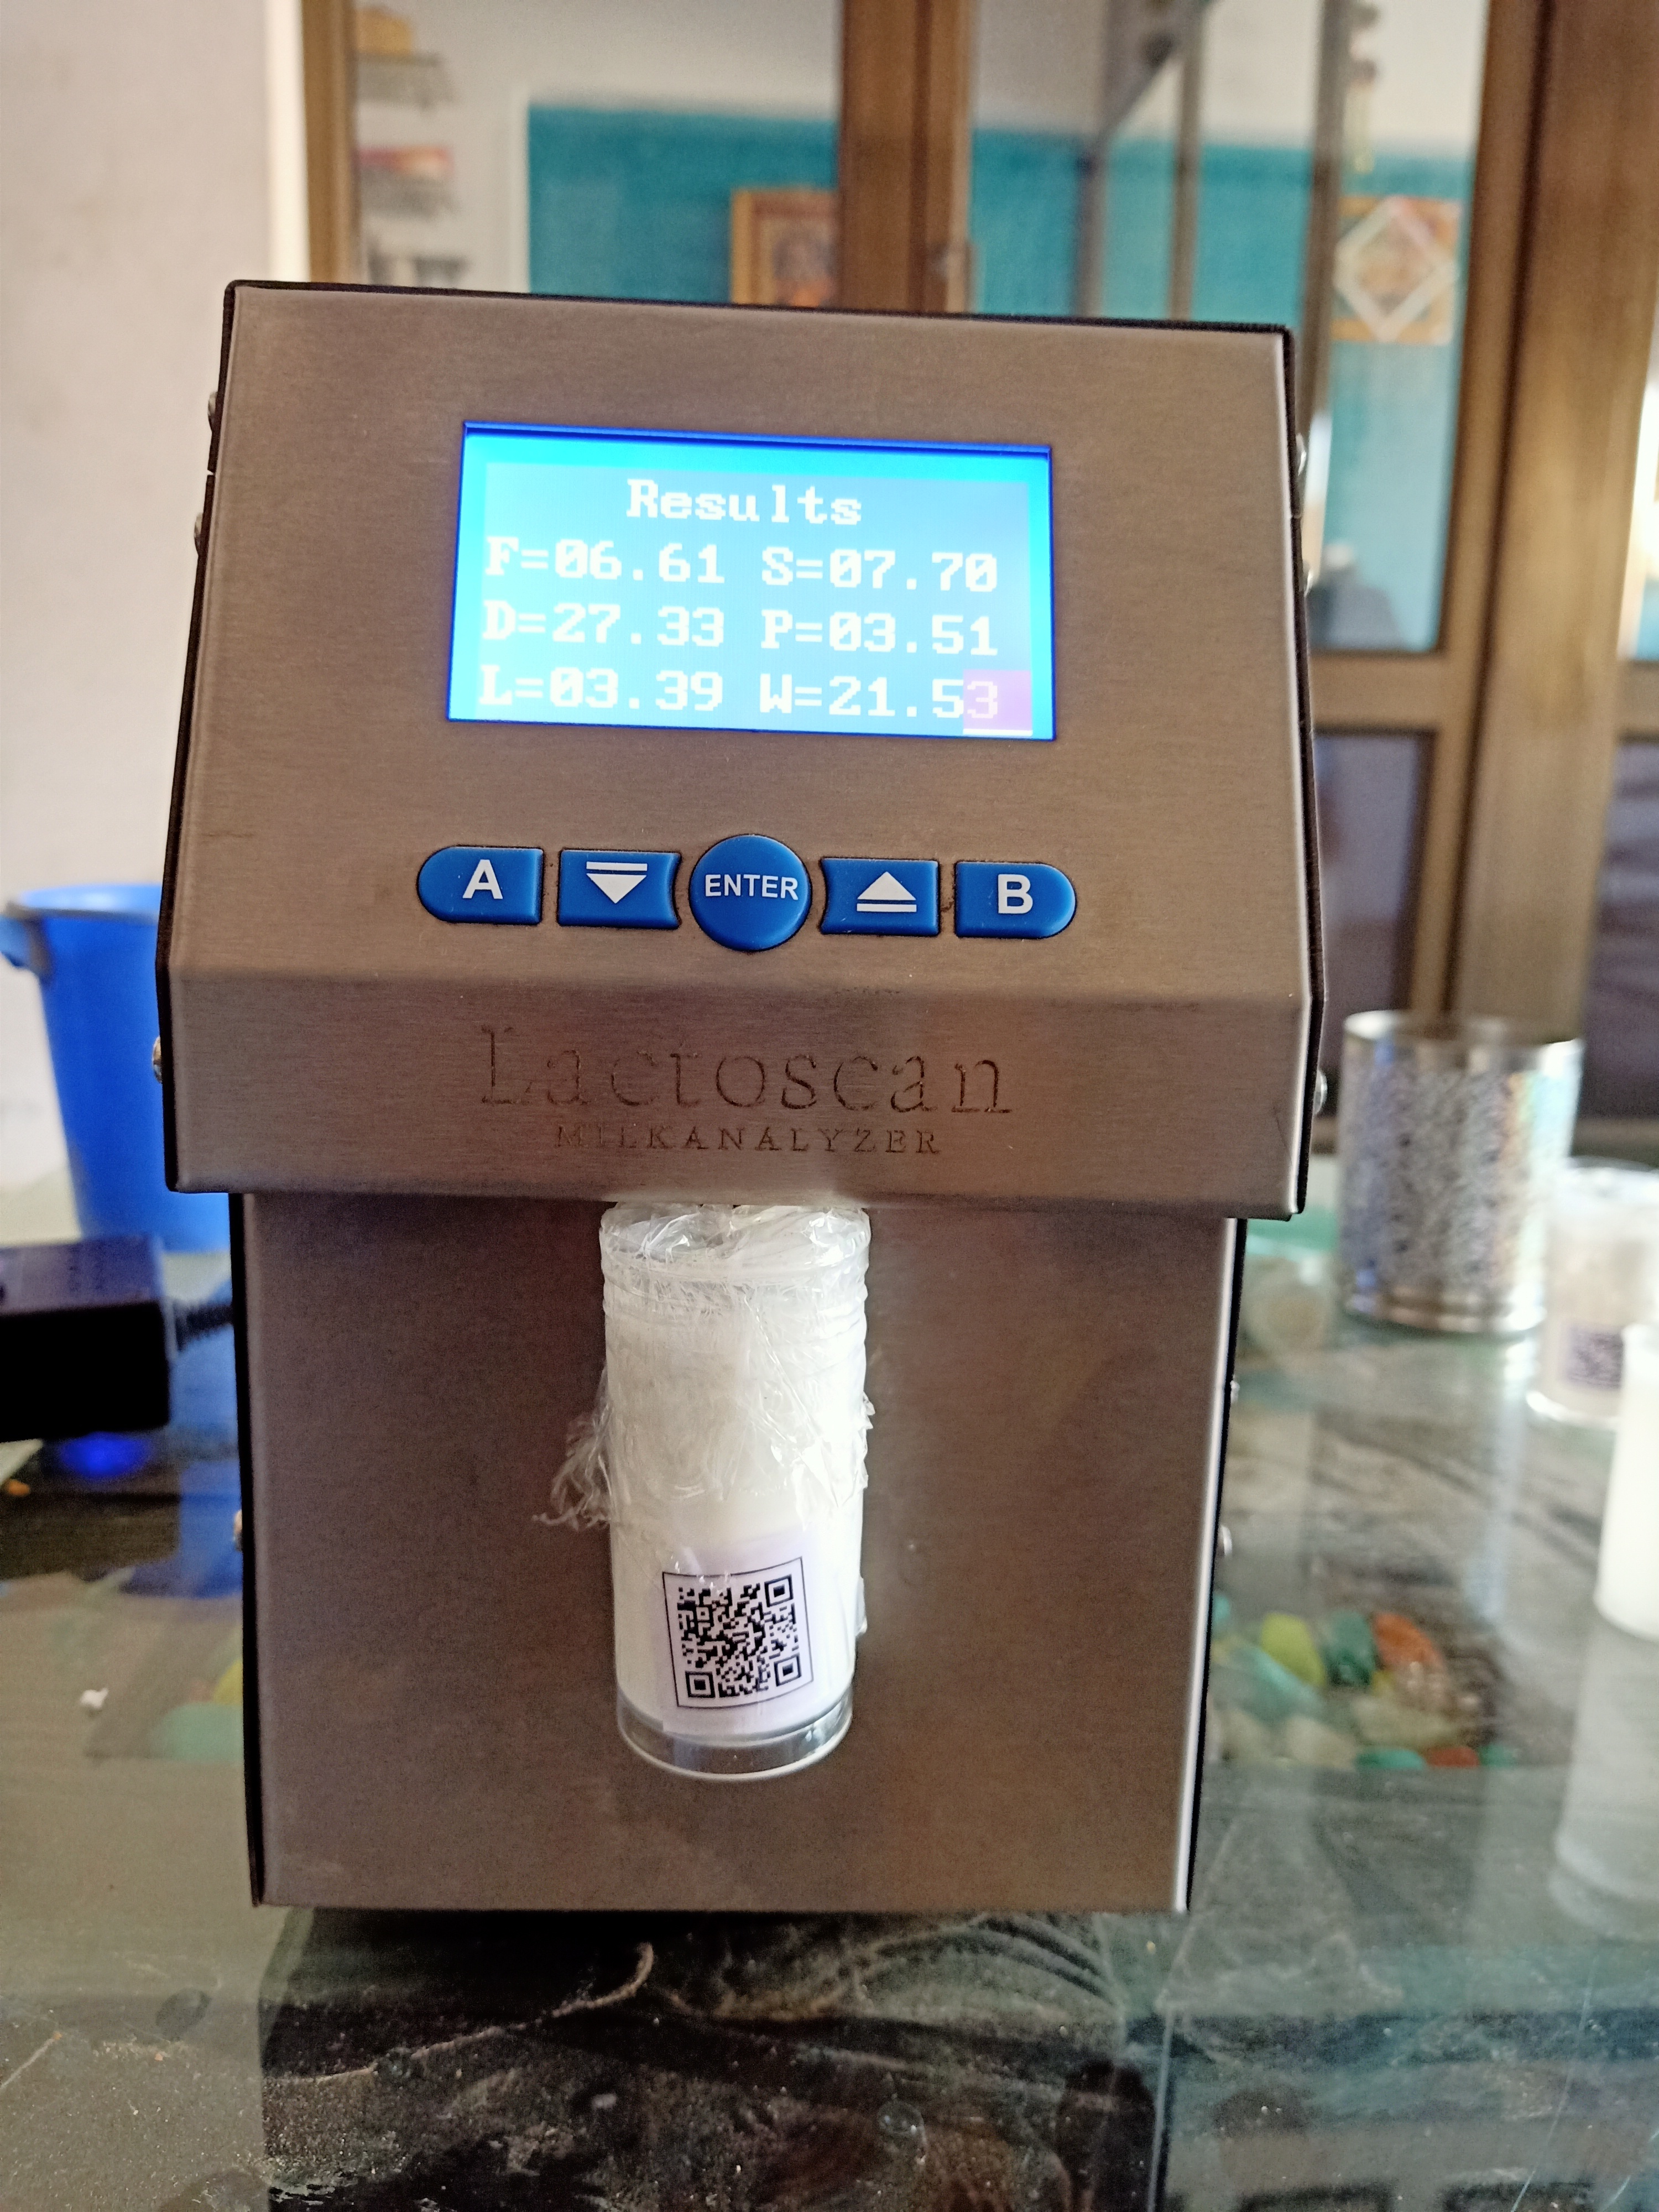lcd: (406, 408, 1087, 766)
qr: (652, 1555, 824, 1728)
